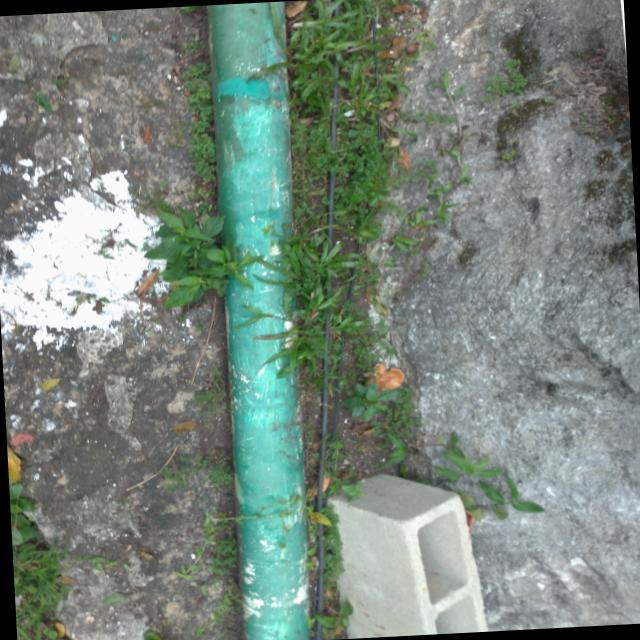gas: (196, 1, 321, 640)
